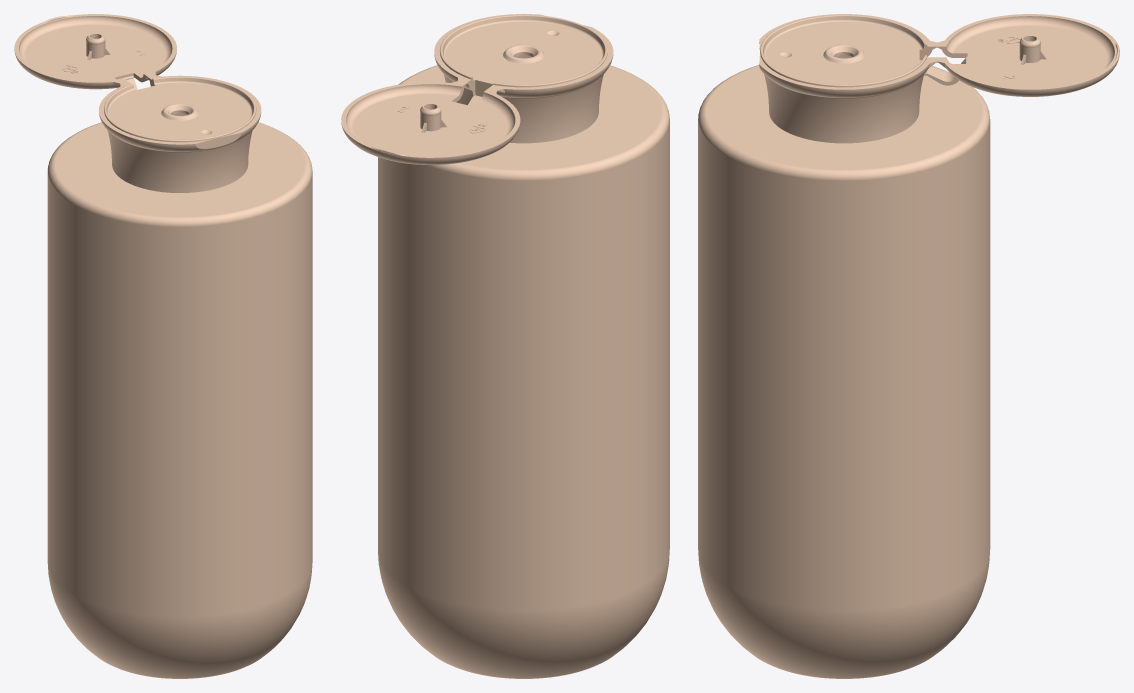
The picture shows the model from 3 angles, left to right: view 1: azimuth 30°, elevation 25°; view 2: azimuth 150°, elevation 25°; view 3: azimuth 270°, elevation 25°; orthographic projection. The views are drawn at different scales.
Parts seen in each view (by area): view 1: Combiner1 - Pièce, ____-____2[1] - Pièce; view 2: Combiner1 - Pièce, ____-____2[1] - Pièce; view 3: Combiner1 - Pièce, ____-____2[1] - Pièce.
Boxes of the visible parts, x1,y1,x2,y2 form: Combiner1 - Pièce: (47, 114, 312, 678); ____-____2[1] - Pièce: (14, 14, 261, 192); Combiner1 - Pièce: (378, 57, 669, 678); ____-____2[1] - Pièce: (341, 14, 613, 164); Combiner1 - Pièce: (698, 57, 990, 678); ____-____2[1] - Pièce: (759, 14, 1119, 143).
Bounding box in the file's own units: 0.07 × 0.1589 × 0.1011.
